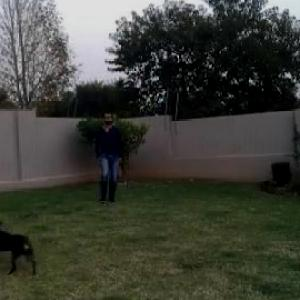follow: (94, 104, 124, 208)
